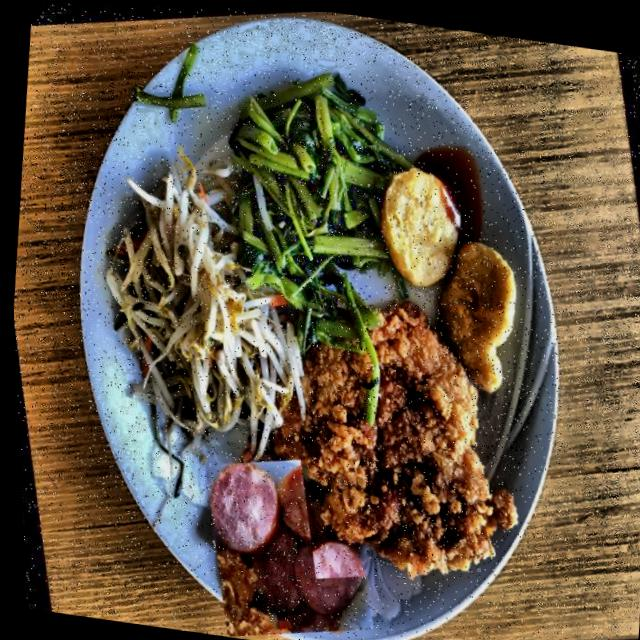Food: (249, 268, 525, 601), (67, 153, 320, 462), (198, 51, 414, 306), (351, 142, 549, 410), (181, 433, 386, 640)
